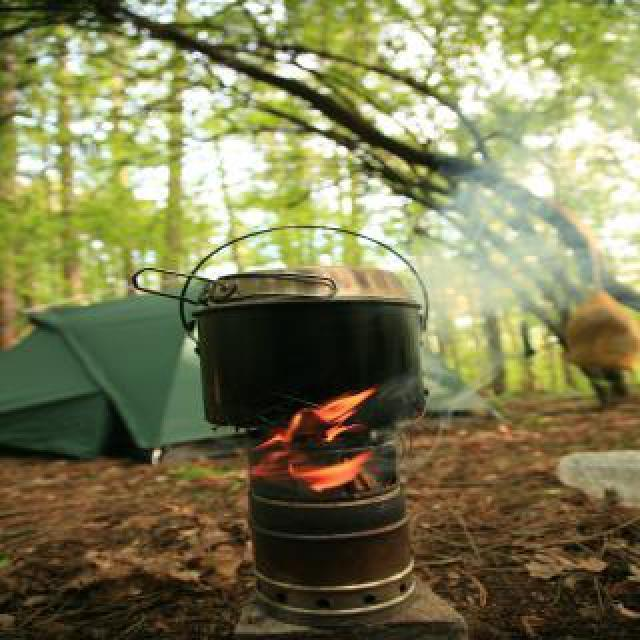Fire: (188, 386, 382, 502)
Smoke: (420, 142, 620, 320)
